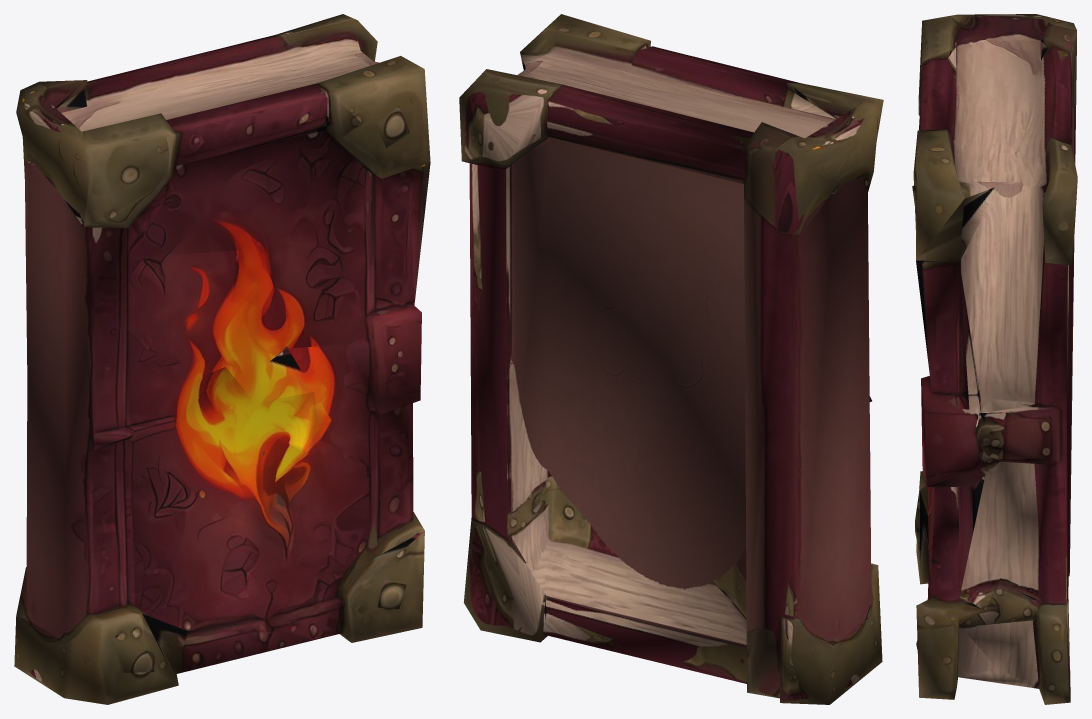
The model's file is tome_fire.glb.
The picture shows the model from 3 angles, left to right: view 1: azimuth 30°, elevation 25°; view 2: azimuth 150°, elevation 25°; view 3: azimuth 270°, elevation 25°; orthographic projection. The views are drawn at different scales.
Parts seen in each view (by area): view 1: item; view 2: item; view 3: item.
Boxes of the visible parts, box(x1,y1,x2,y2) form: item: box(14, 14, 430, 704); item: box(459, 14, 883, 704); item: box(912, 14, 1077, 704).
Size of the model in its own units: 0.1992 by 0.3 by 0.0827.
1 material, 1 textured.
